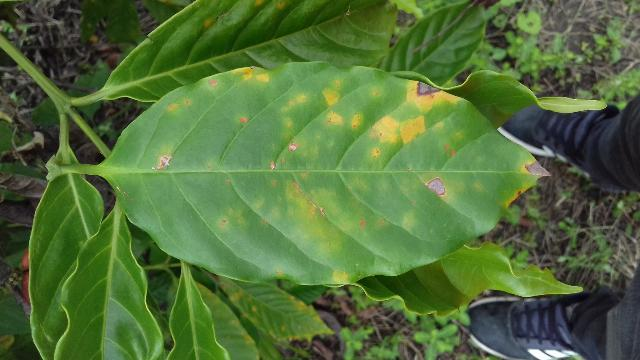rust_level_3: (101, 60, 557, 289)
